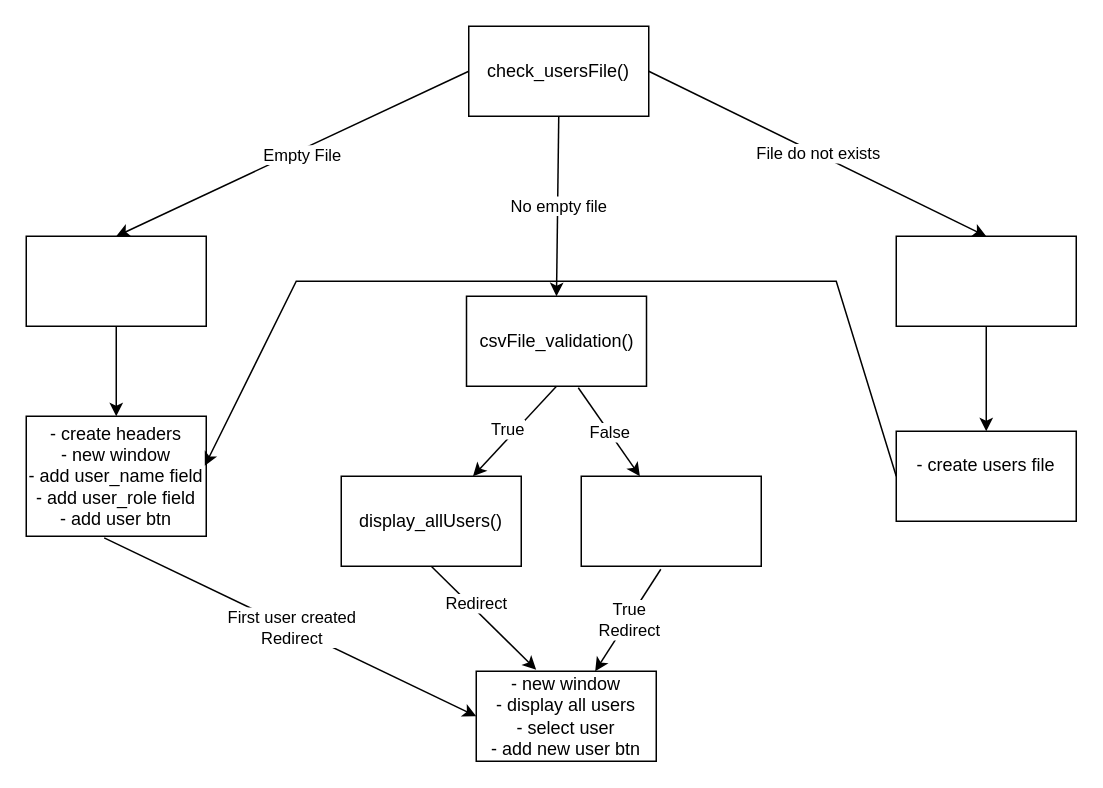
The diagram is 1103 pixels wide and 788 high, and some of its shapes have lost their labels. Each missing label, with the centre of its shape:
"- new window - delete invalid rows btn" goes at point (670, 520).
"no_usersFile_found()" goes at point (985, 280).
"usersFile_isEmpty()" goes at point (115, 280).
